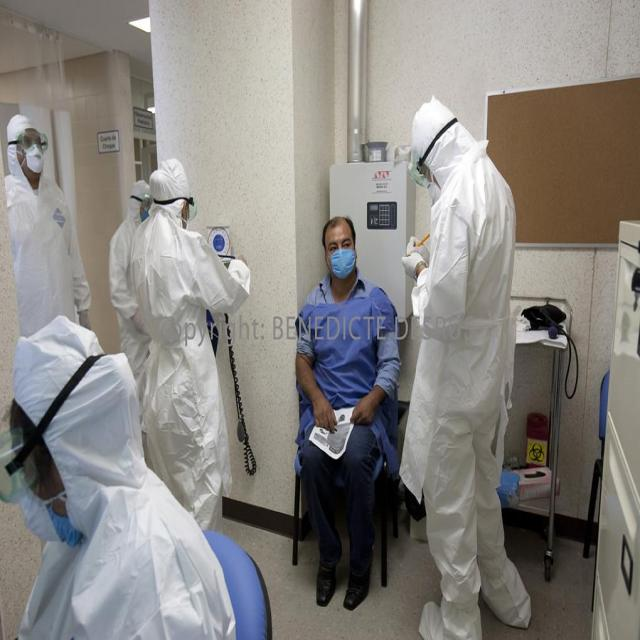Coverall: (8, 313, 240, 640), (403, 94, 533, 640), (128, 158, 253, 539), (2, 107, 98, 333), (109, 176, 164, 397)
Gloves: (402, 252, 426, 280), (407, 236, 430, 262)
Mask: (330, 250, 356, 279)
